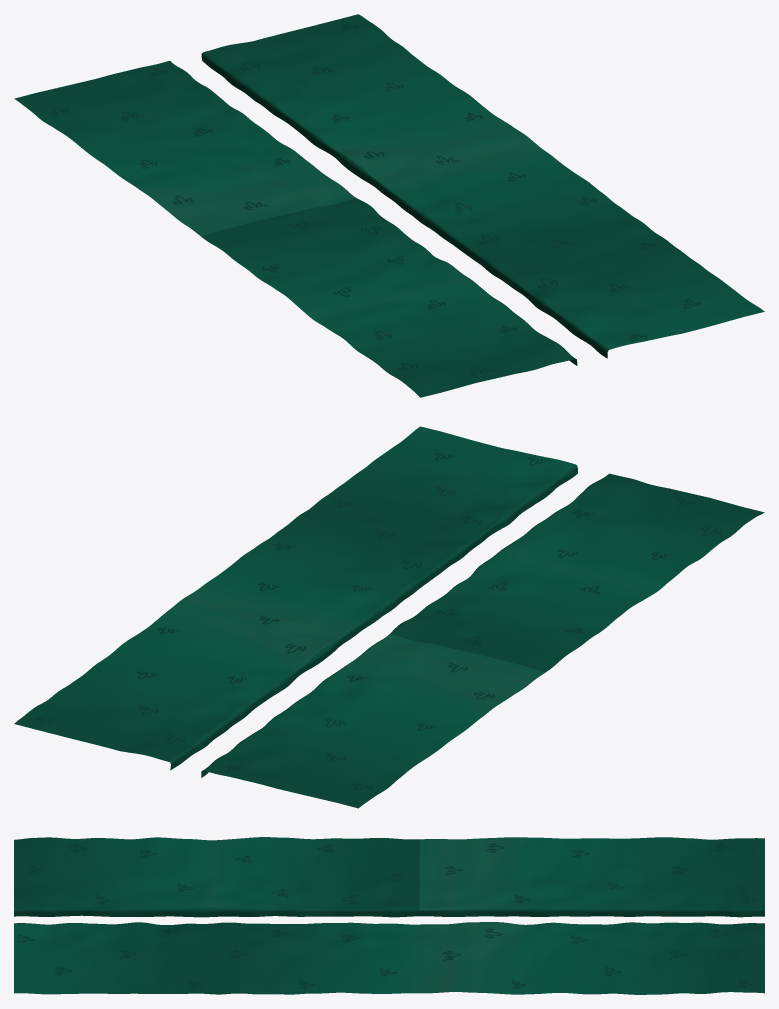
The picture shows the model from 3 angles, top to bottom: view 1: azimuth 30°, elevation 25°; view 2: azimuth 150°, elevation 25°; view 3: azimuth 270°, elevation 25°; orthographic projection. The views are drawn at different scales.
Visible parts, largest first — view 1: Default; view 2: Default; view 3: Default.
Boxes of the visible parts, x1,y1,x2,y2 form: Default: (14,14,764,397); Default: (14,426,764,808); Default: (14,837,764,994).
Bounding box in the file's own units: 1174 × 32.56 × 2400.
1 material, 1 textured.
